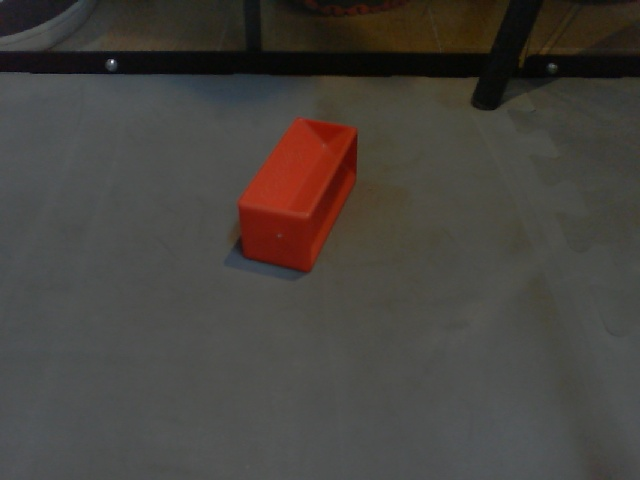RedSample: (231, 115, 360, 277)
